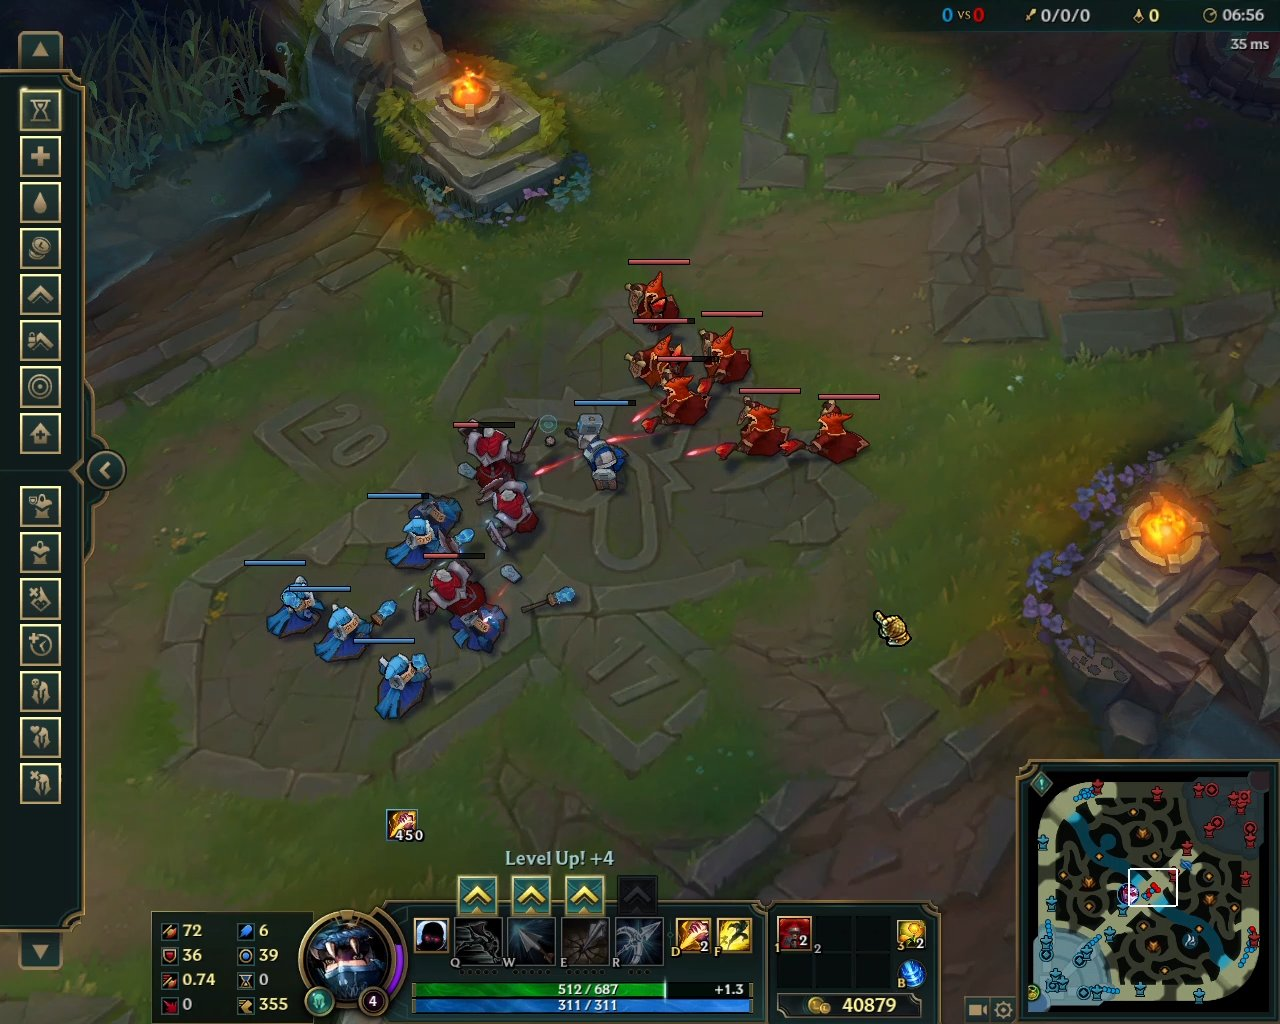EnemyMinion: (447, 411, 541, 493), (781, 392, 881, 465), (713, 385, 801, 466), (638, 355, 719, 439), (621, 316, 696, 391), (413, 551, 489, 625), (696, 310, 764, 393), (623, 259, 691, 333)
